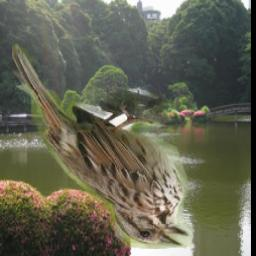Sparrow: (11, 44, 191, 249)
